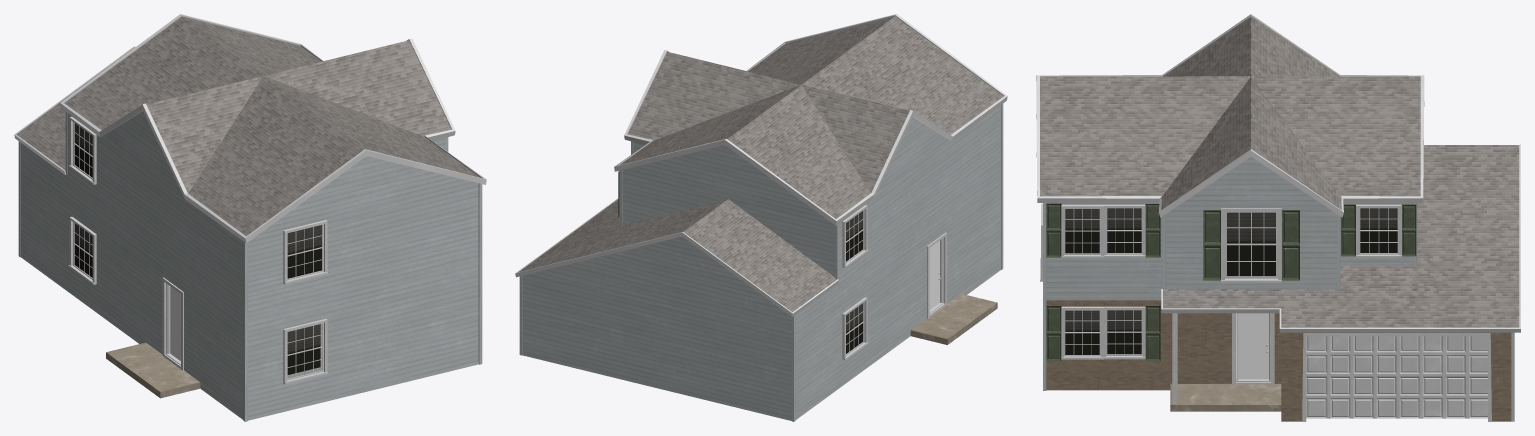
Rendered from house-7.glb.
3 views of the same model, side by side, from view 1: azimuth 30°, elevation 25°; view 2: azimuth 150°, elevation 25°; view 3: azimuth 270°, elevation 25° (orthographic). The views are drawn at different scales.
Visible parts, largest first — view 1: House_7_col_4; view 2: House_7_col_4; view 3: House_7_col_4.
Part boxes in pixels (x1=…): House_7_col_4: x1=14, y1=14, x2=486, y2=421; House_7_col_4: x1=515, y1=14, x2=1007, y2=421; House_7_col_4: x1=1036, y1=14, x2=1520, y2=421.
Size of the model in its own units: 10.01 by 6.93 by 11.91.
Materials: 1 (1 with a texture image).
